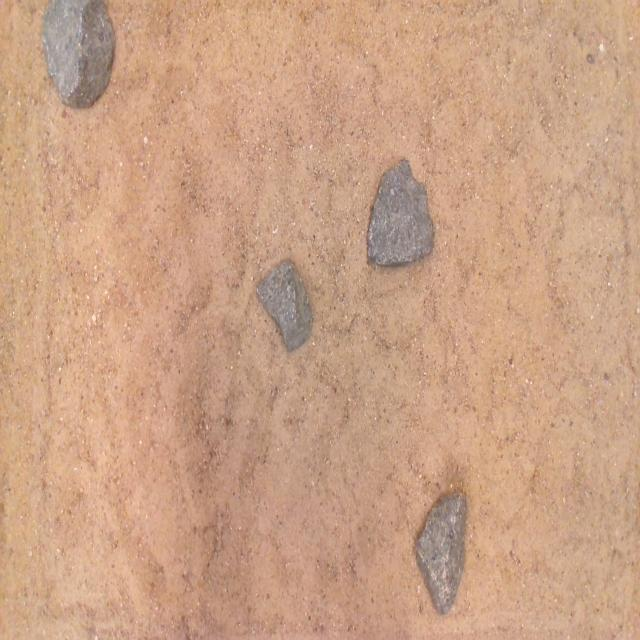rock: (42, 0, 115, 107), (368, 159, 433, 265), (416, 494, 467, 614), (257, 260, 312, 351)
